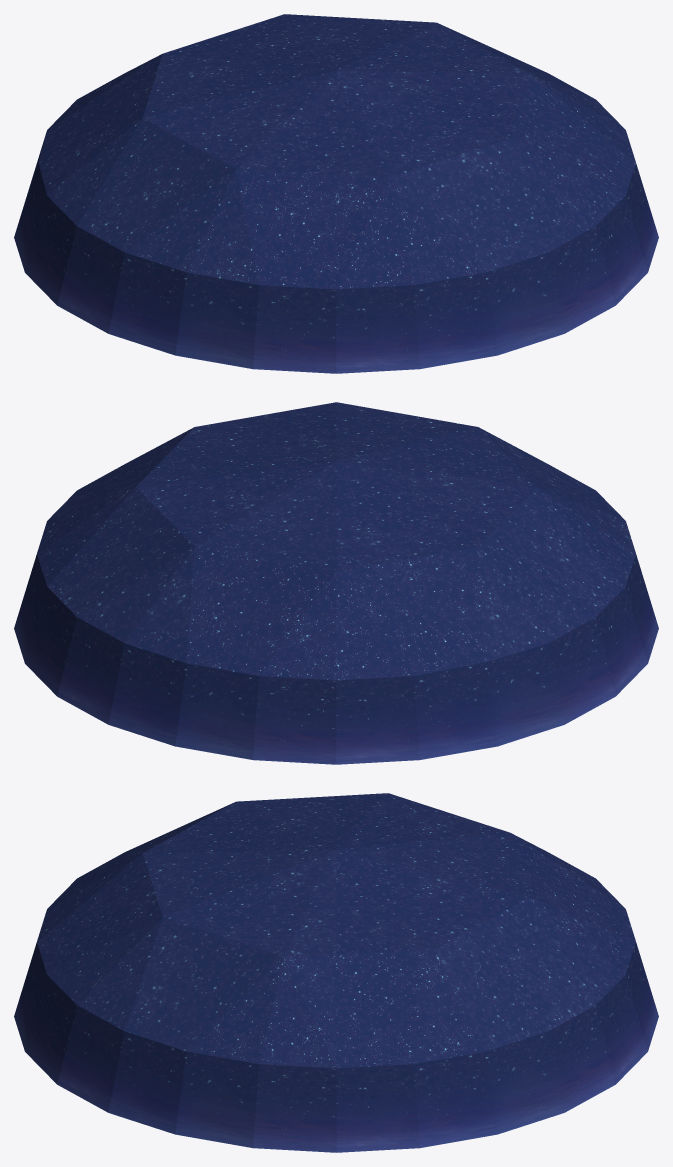
Rendered from Skybox.obj.
The picture shows the model from 3 angles, top to bottom: view 1: azimuth 30°, elevation 25°; view 2: azimuth 150°, elevation 25°; view 3: azimuth 270°, elevation 25°; orthographic projection.
Parts seen in each view (by area): view 1: obj1; view 2: obj1; view 3: obj1.
Boxes of the visible parts, x1,y1,x2,y2 form: obj1: [14, 14, 658, 373]; obj1: [14, 402, 658, 764]; obj1: [14, 793, 658, 1152].
Bounding box in the file's own units: 154672 × 45639 × 154672.
7 materials, 7 textured.
